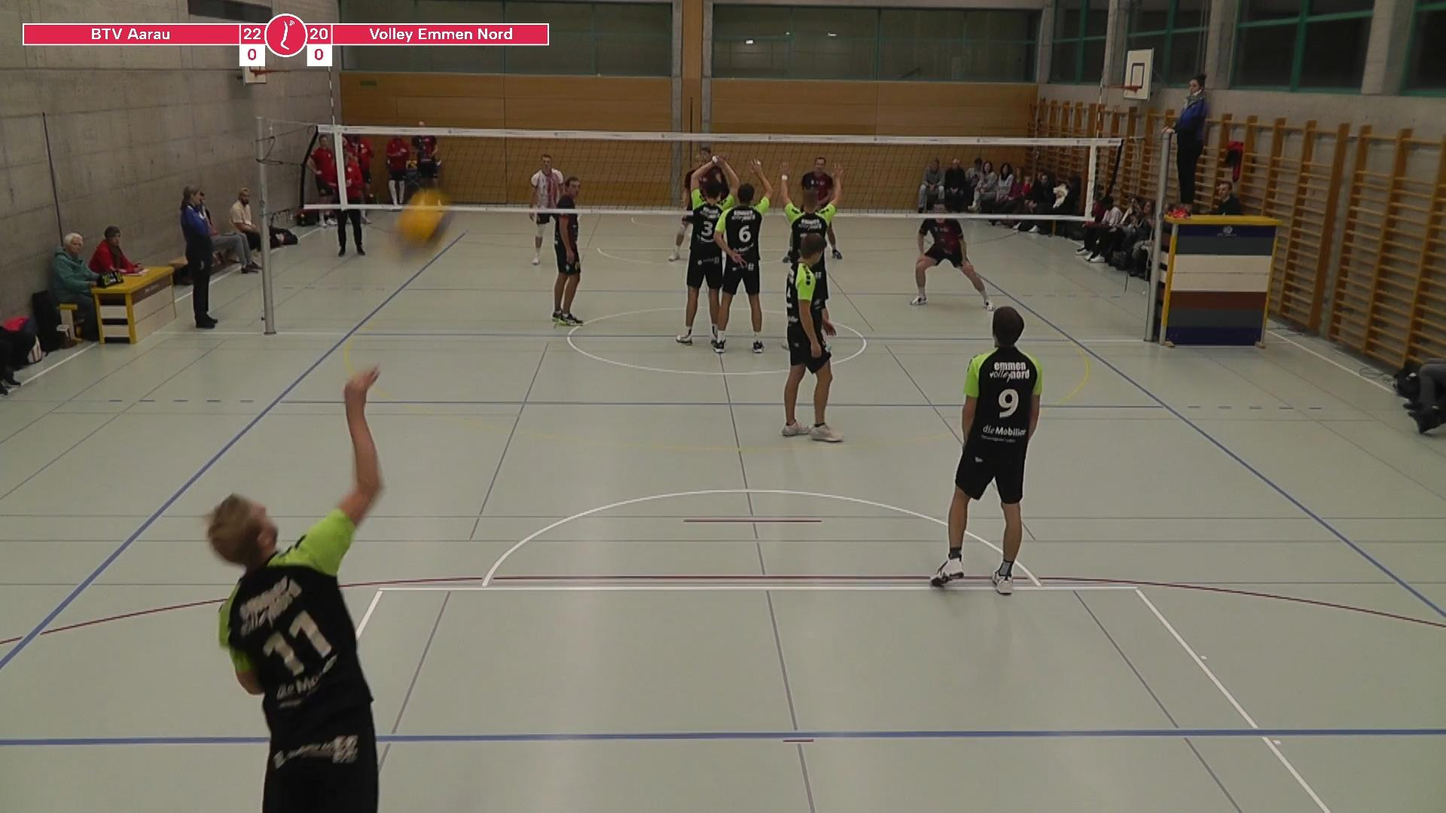battuta: (186, 353, 413, 813)
